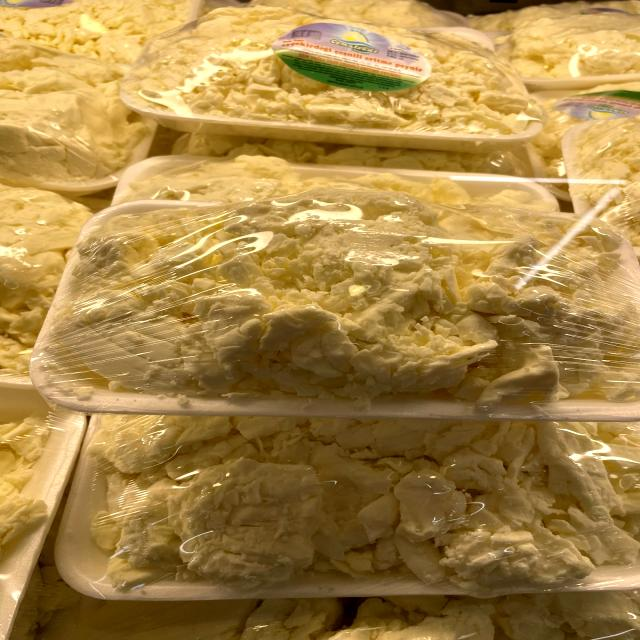cheese: (76, 204, 640, 406)
